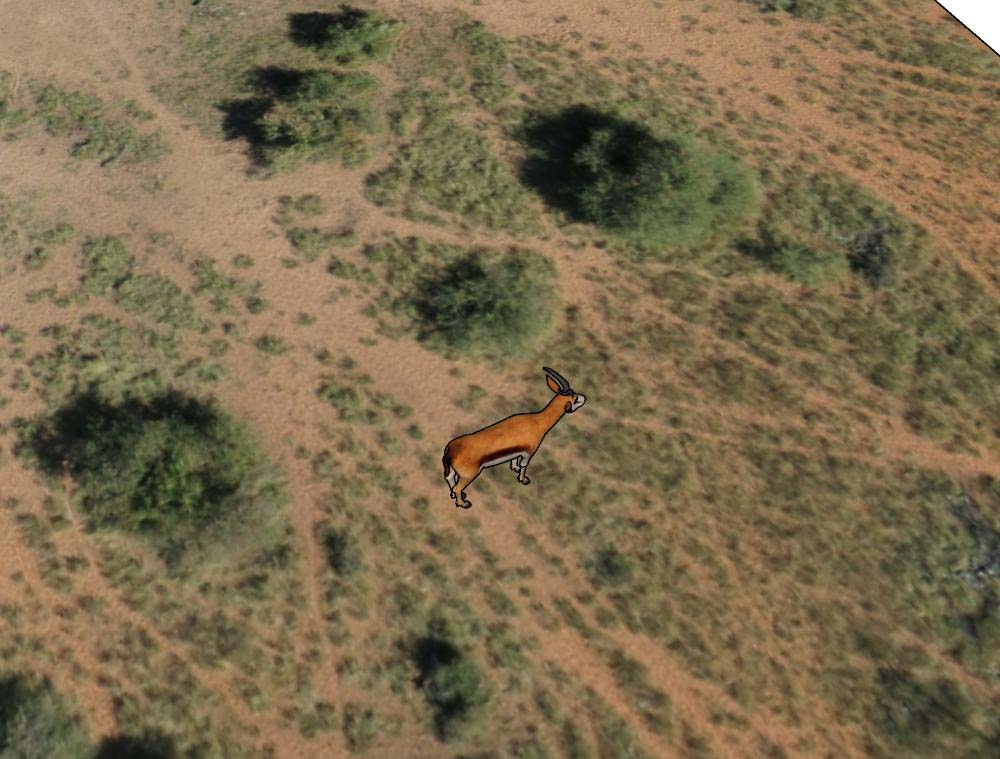springbok: (440, 364, 589, 509)
